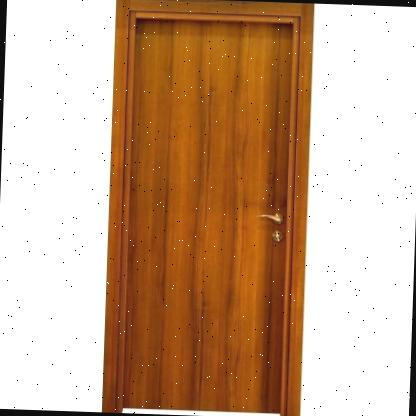door: (99, 0, 318, 416)
